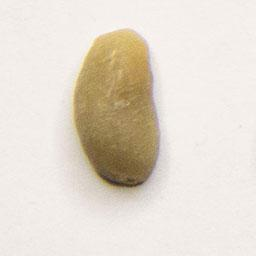longberry: (70, 25, 164, 191)
